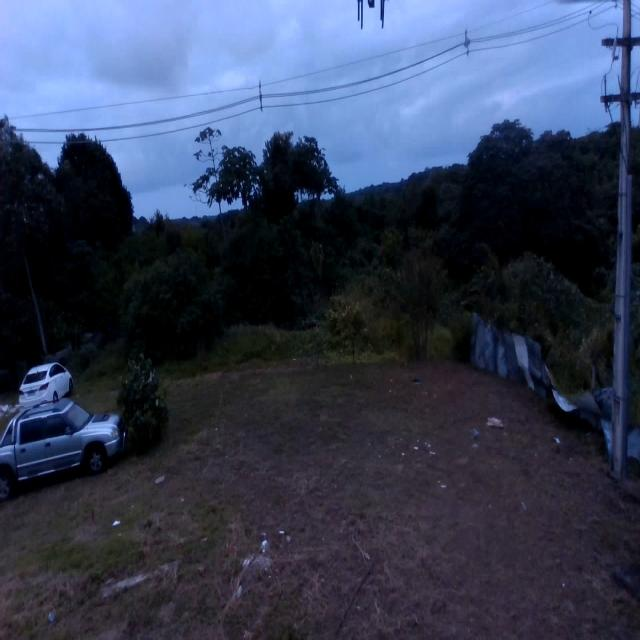-uav-: (349, 0, 396, 41)
